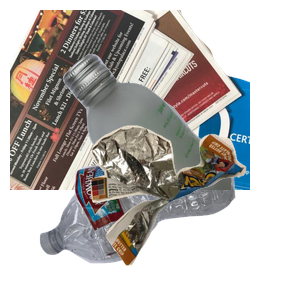glass: (60, 51, 300, 231)
paper: (10, 10, 250, 190)
plastic: (37, 144, 265, 300)
trash: (88, 123, 300, 300)
